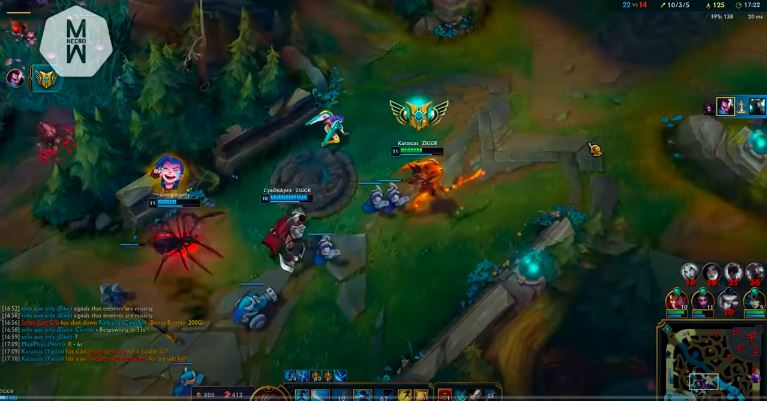bar: (146, 194, 204, 210), (391, 142, 446, 158), (258, 191, 316, 206)
